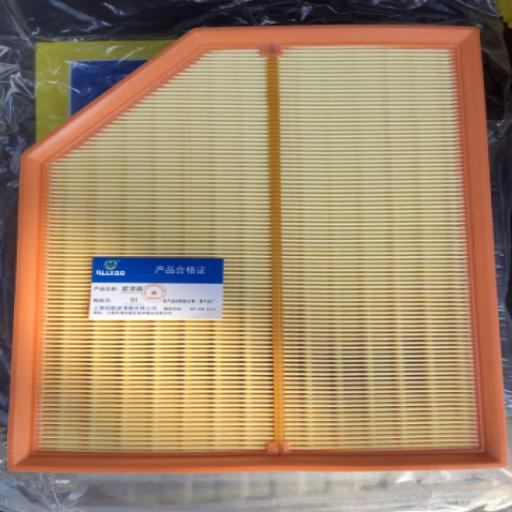air_cleaner: (6, 16, 512, 483)
